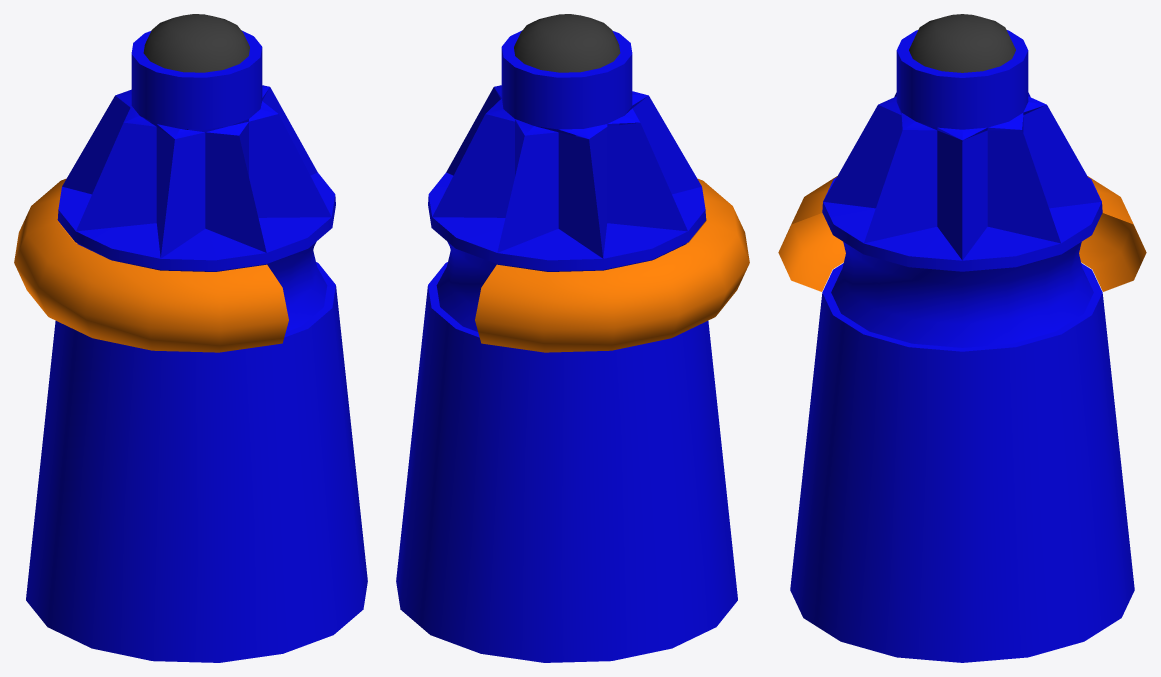
The model's file is SM_PostHalf.FBX.
3 renders of one model, left to right at view 1: azimuth 30°, elevation 25°; view 2: azimuth 150°, elevation 25°; view 3: azimuth 270°, elevation 25°, orthographic.
Visible parts, largest first — view 1: SM_PostHalf; view 2: SM_PostHalf; view 3: SM_PostHalf.
Boxes of the visible parts, x1,y1,x2,y2 form: SM_PostHalf: (14, 14, 367, 662); SM_PostHalf: (396, 14, 749, 662); SM_PostHalf: (778, 14, 1146, 662).
Bounding box in the file's own units: 59.7 × 61.69 × 105.
